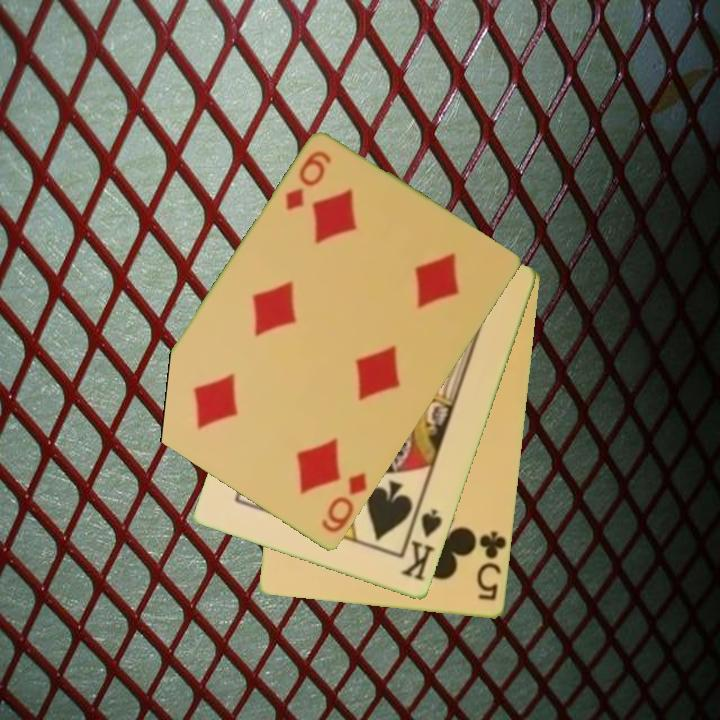5c: (473, 527, 509, 604)
6d: (281, 147, 335, 214), (318, 469, 371, 537)
Ks: (397, 502, 446, 585)
